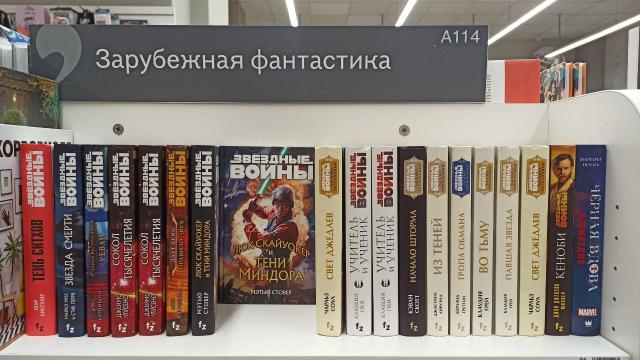book-s-spine: (21, 144, 56, 336), (572, 145, 606, 335), (54, 145, 84, 337), (519, 145, 549, 335), (547, 145, 576, 335), (108, 145, 135, 337), (315, 147, 342, 336), (372, 146, 398, 336), (345, 147, 371, 335), (400, 147, 426, 335), (84, 144, 109, 337), (191, 146, 215, 336), (496, 145, 519, 336), (139, 146, 162, 335), (473, 146, 495, 336), (450, 147, 472, 336), (167, 145, 188, 336), (427, 146, 448, 336)
